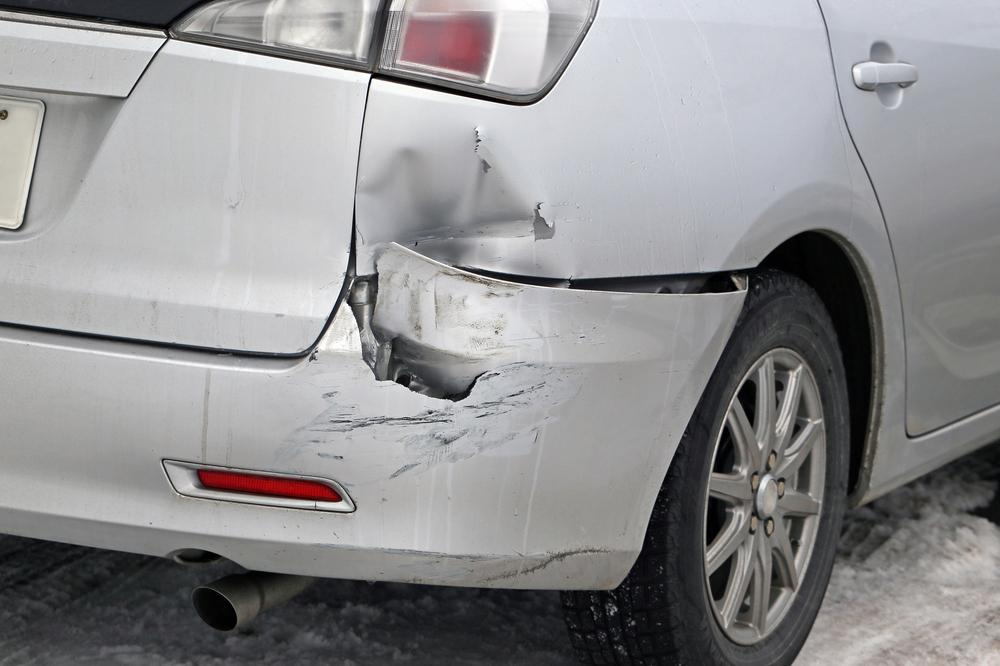crack: (345, 273, 490, 404)
dent: (355, 134, 543, 271)
scratch: (273, 313, 590, 499), (390, 266, 521, 364), (376, 545, 614, 581)
